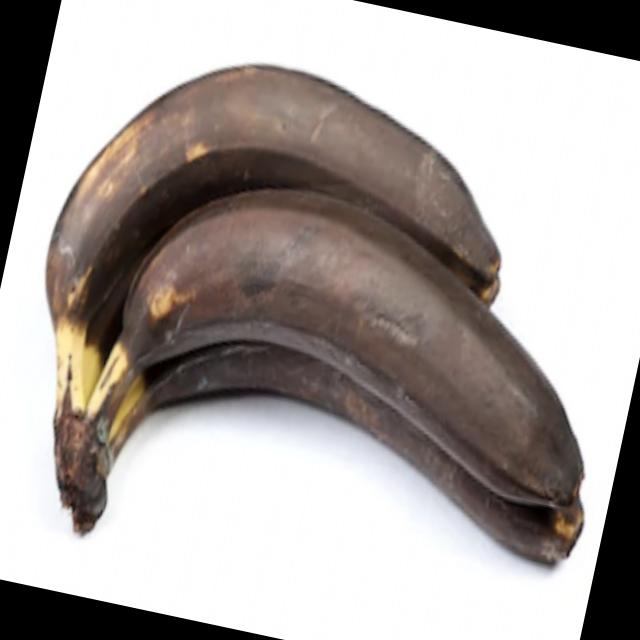rotten-banana: (94, 177, 606, 547), (40, 21, 539, 368)
